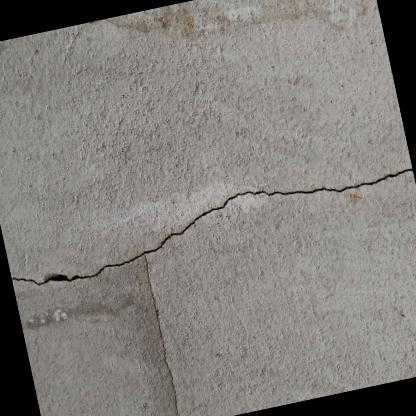crack: (10, 166, 413, 416)
